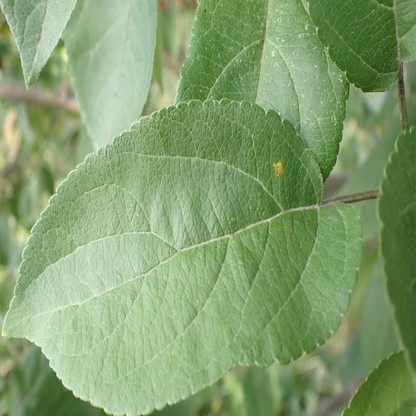rust: (274, 161, 281, 176)
